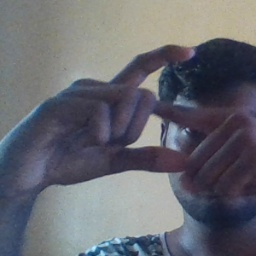E: (111, 40, 223, 173)
